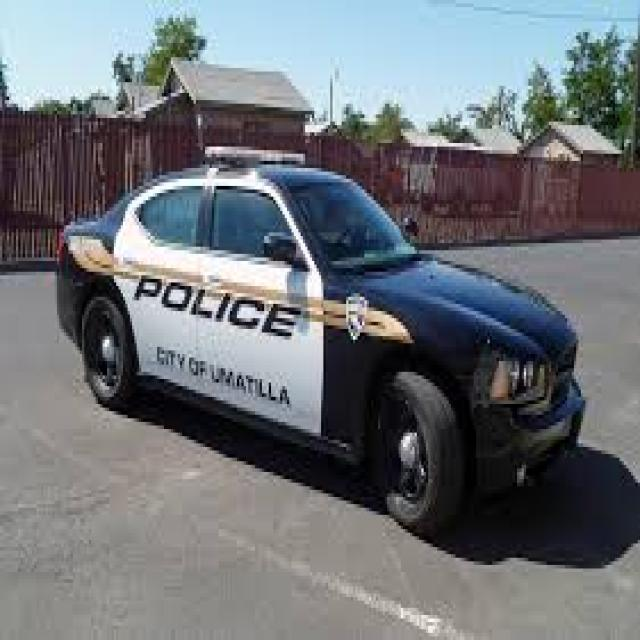cop: (52, 142, 590, 548)
